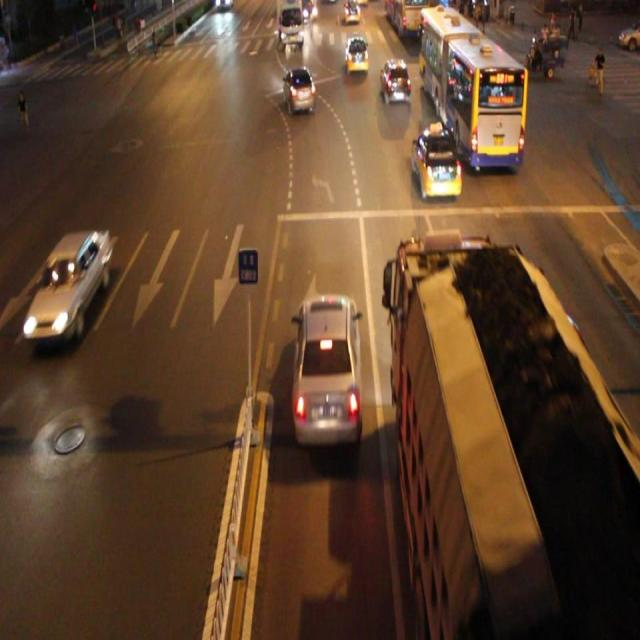bus: (394, 238, 640, 640)
car: (288, 291, 362, 443), (28, 229, 112, 341), (411, 127, 461, 200), (283, 68, 315, 116), (380, 60, 410, 104)
van: (418, 8, 523, 170)
